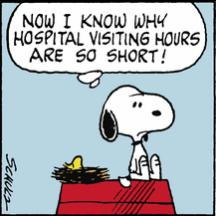snoopy: (98, 81, 176, 187)
